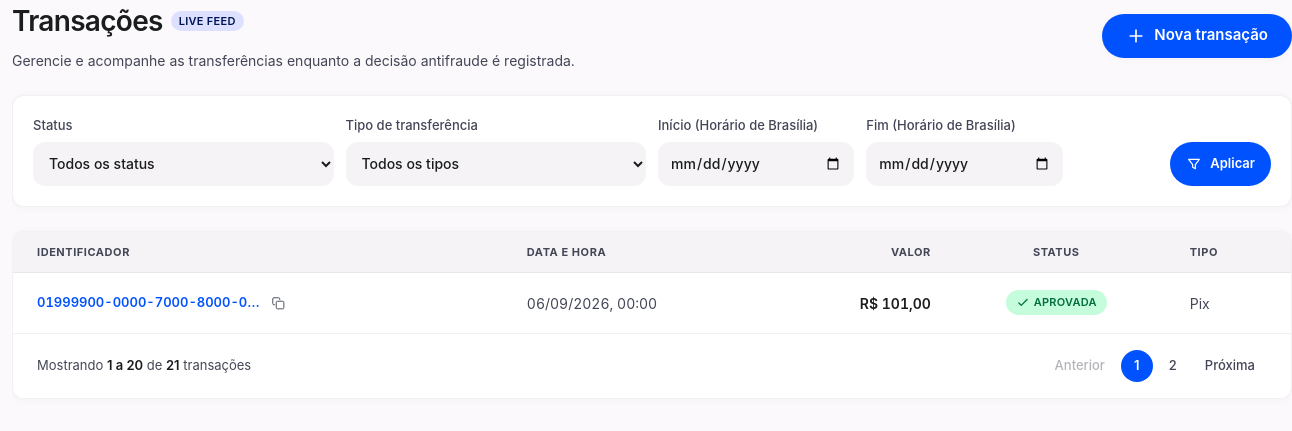
Test: web/TransactionsListView — TI-01 › bloqueia o envio quando o intervalo é invertido e mantém a página atual
Check: the table is shown, box [13,232,1291,333]
In the date field labelled "Início (Horário de Brasília)": [756, 164] box [658,142,854,186], type "2026-09-10"
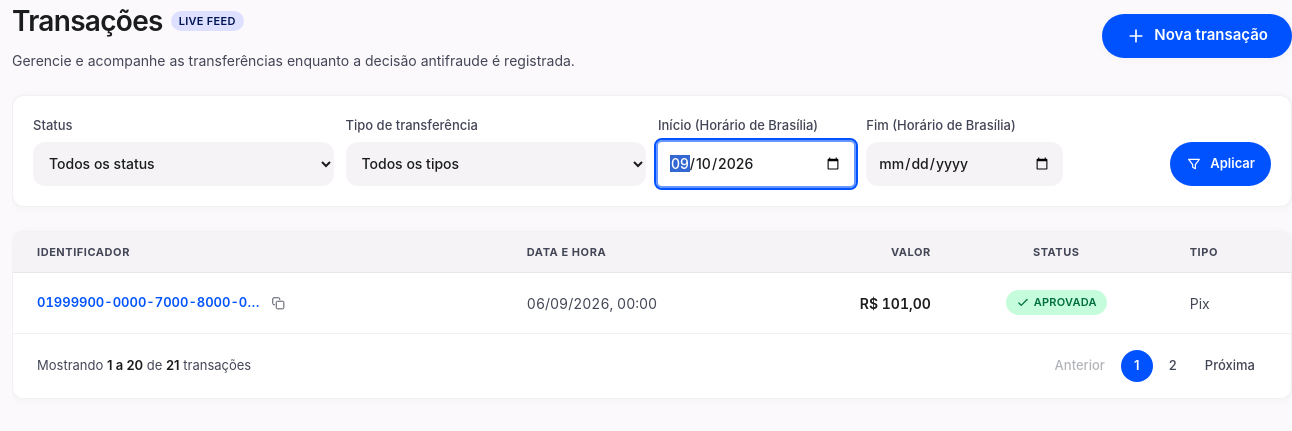
In the date field labelled "Fim (Horário de Brasília)": [964, 164] box [866,142,1063,186], type "2026-09-05"
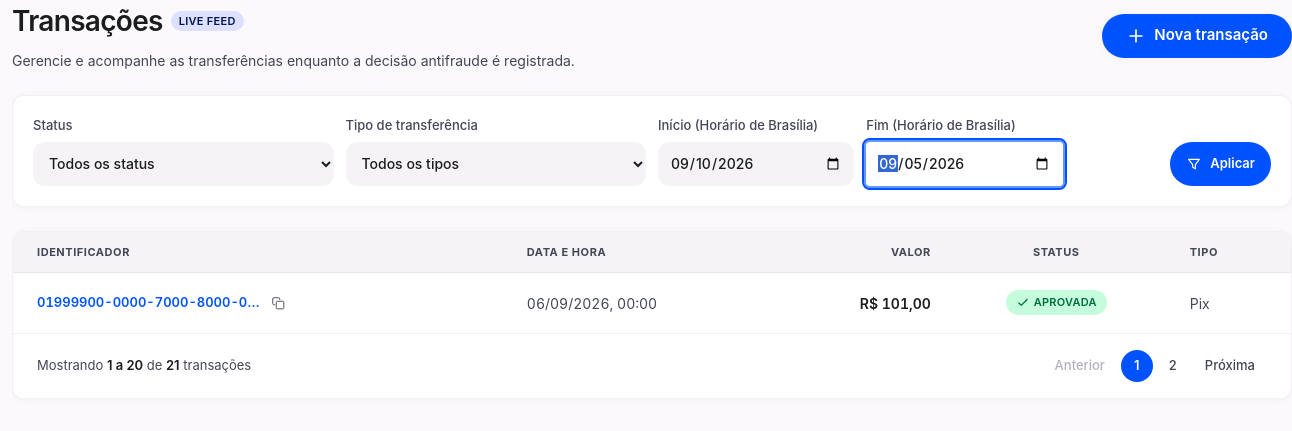
Click the button "Aplicar": [1221, 164] box [1170,142,1271,186]
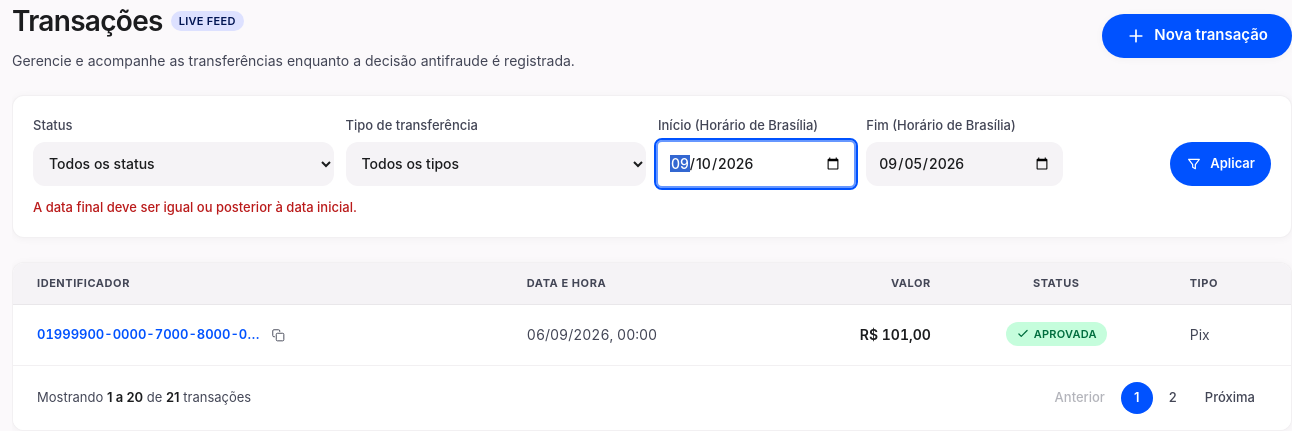
Check: the message "A data final deve ser igual ou posterior à data inicial." is shown, box [33,198,357,214]
